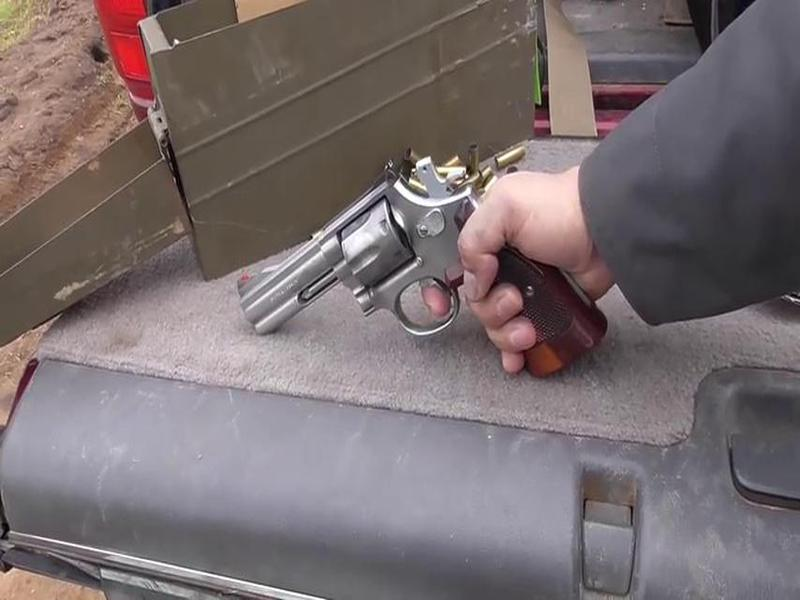Revolver: (227, 158, 505, 374)
